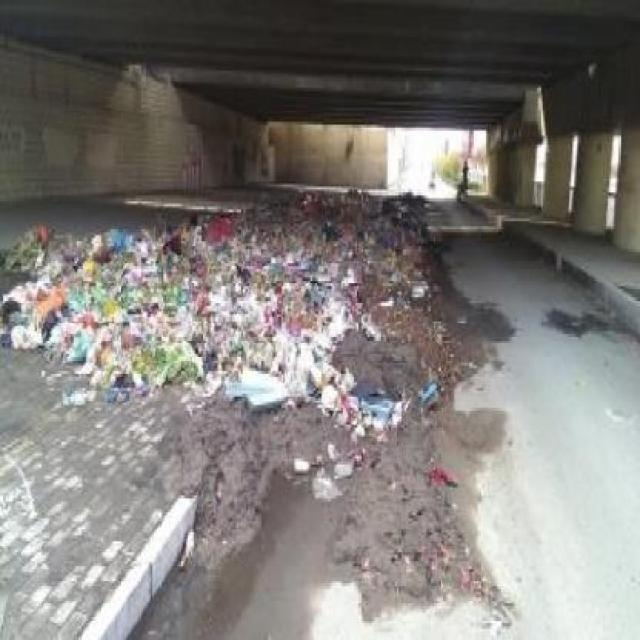garbage: (2, 182, 430, 460), (346, 462, 478, 598), (197, 465, 253, 552)
